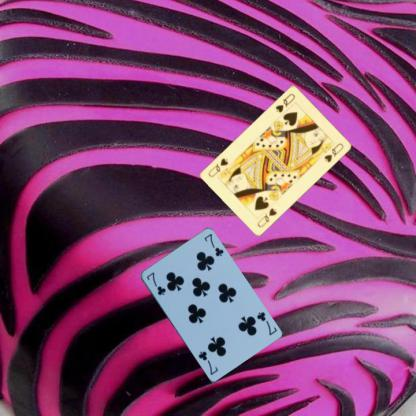7c: (254, 309, 278, 336), (144, 270, 167, 297)
Qs: (255, 205, 278, 228), (273, 91, 296, 113)
